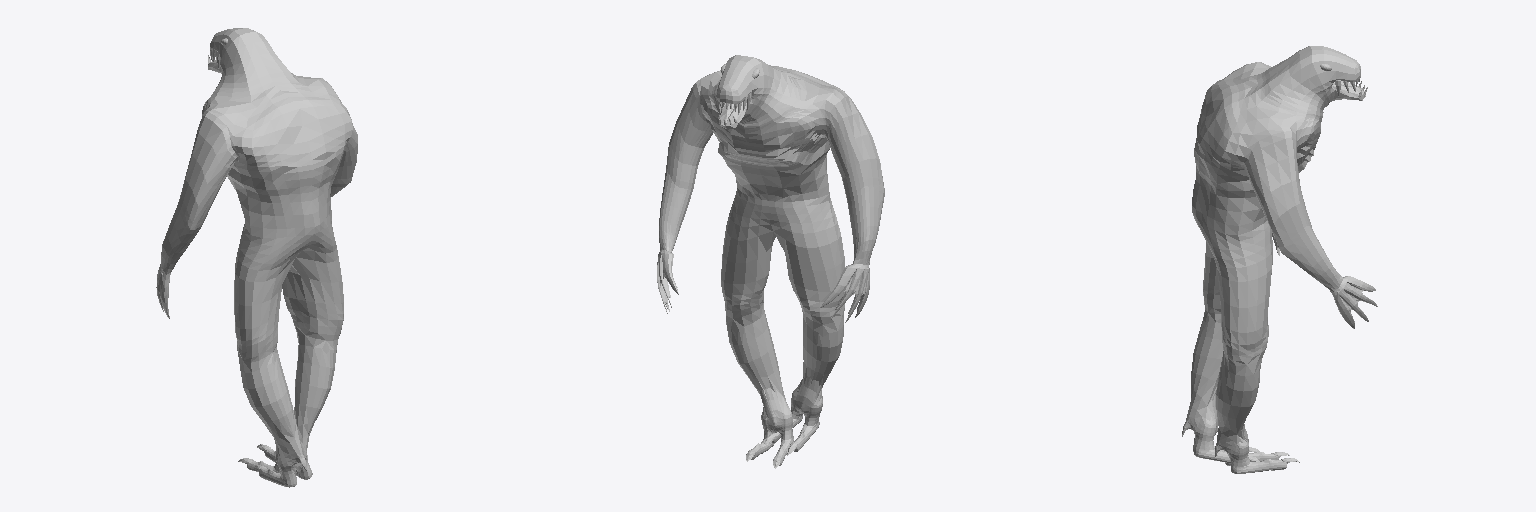
File: Berserkerandar.0098.obj
The picture shows the model from 3 angles: view 1: azimuth 30°, elevation 25°; view 2: azimuth 150°, elevation 25°; view 3: azimuth 270°, elevation 25°; orthographic projection.
Parts seen in each view (by area): view 1: polySurface27; view 2: polySurface27; view 3: polySurface27.
Boxes of the visible parts, x1=… form: polySurface27: x1=156, y1=28, x2=357, y2=487; polySurface27: x1=657, y1=55, x2=884, y2=468; polySurface27: x1=1182, y1=46, x2=1377, y2=473.
Bounding box in the file's own units: 11.87 × 24.17 × 10.23.